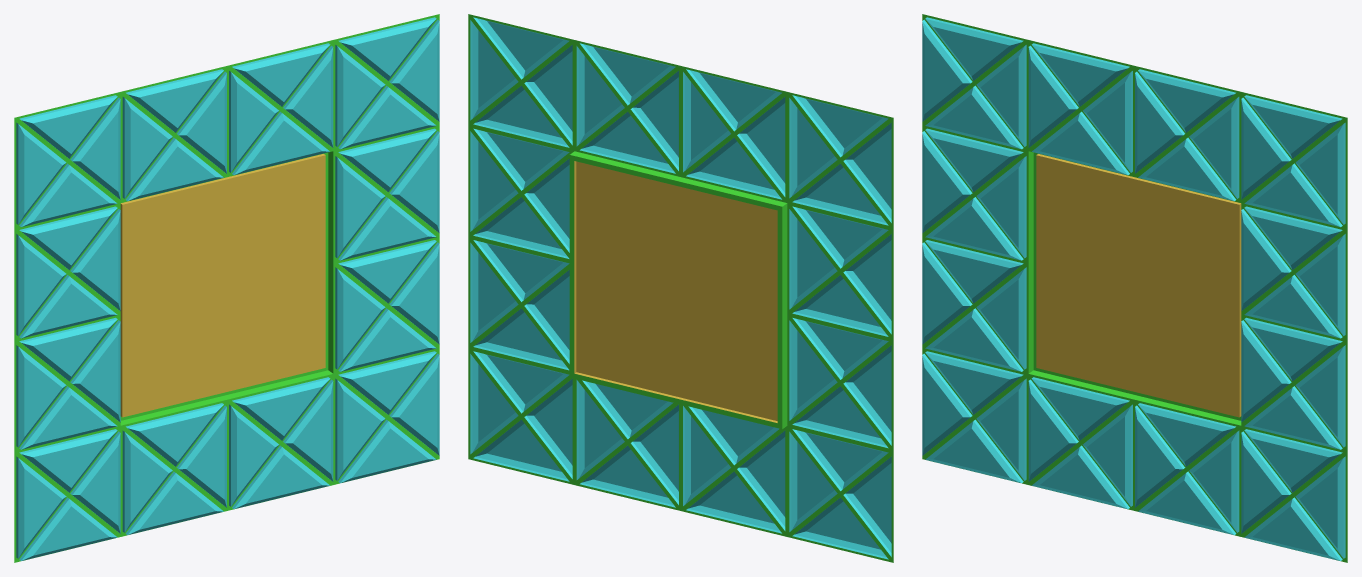
The model's file is Wall_46_C.fbx.
3 renders of one model, left to right at view 1: azimuth 30°, elevation 25°; view 2: azimuth 150°, elevation 25°; view 3: azimuth 330°, elevation 25°, orthographic.
Visible parts, largest first — view 1: Wall_46_C; view 2: Wall_46_C; view 3: Wall_46_C.
Boxes of the visible parts, x1,y1,x2,y2 form: Wall_46_C: (14, 14, 439, 562); Wall_46_C: (468, 14, 893, 562); Wall_46_C: (922, 14, 1347, 562).
Size of the model in its own units: 457 by 457 by 16.33.
